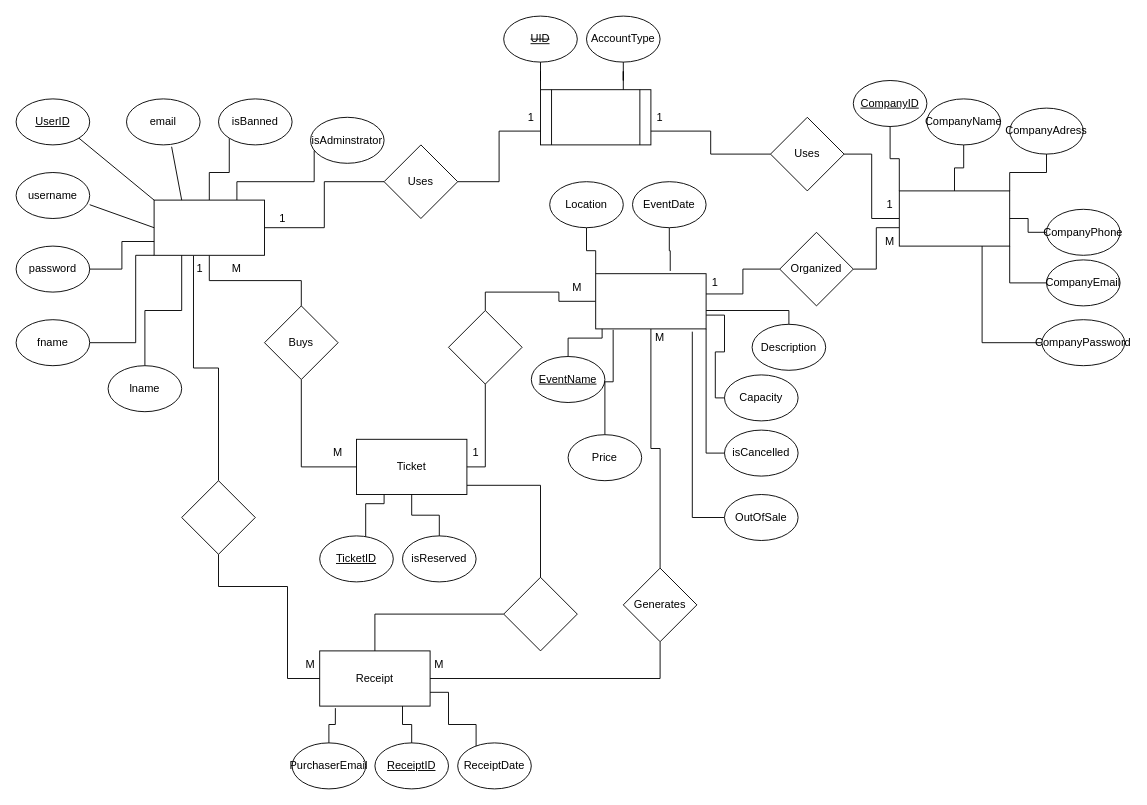
Some shapes in this 1147 by 805 pixel diagram are drawn without their labels. The centre of each missing label's shape, as x and y in pixels:
"Company" belongs at [954,218].
"Event" belongs at [650,301].
"Gets" belongs at [218,517].
"Has" belongs at [540,613].
"Login Type" belongs at [595,117].
"UsedFor" belongs at [485,347].
"User" belongs at [208,227].
